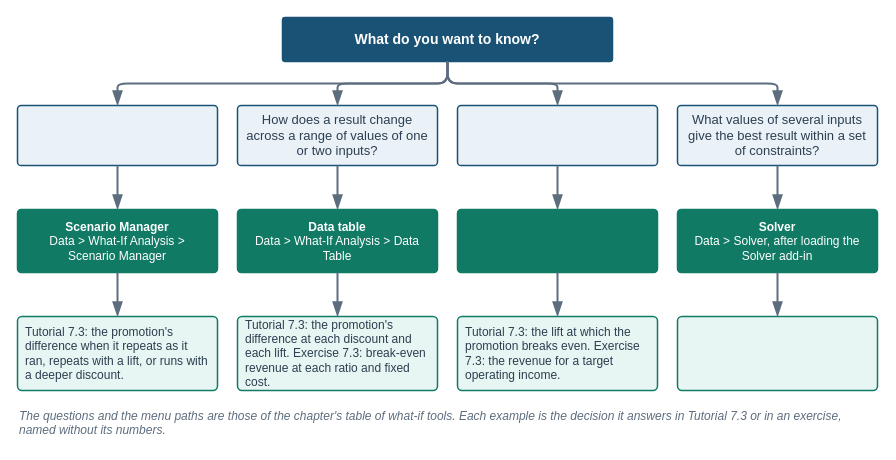
Image size: 896x460. Some labels were removed from this diagram. The shapes that lost their labels are listed below. From the top down, each one's centre as x and y in pixels, then its label:
At point (117, 135): "What are the results under each of several named sets of inputs?".
At point (557, 135): "What value of one input produces a target result?".
At point (557, 240): "Goal Seek Data > What-If Analysis > Goal Seek".
At point (777, 353): "Exercise 7.4: how many of each item to make when Assembly hours run short.".
